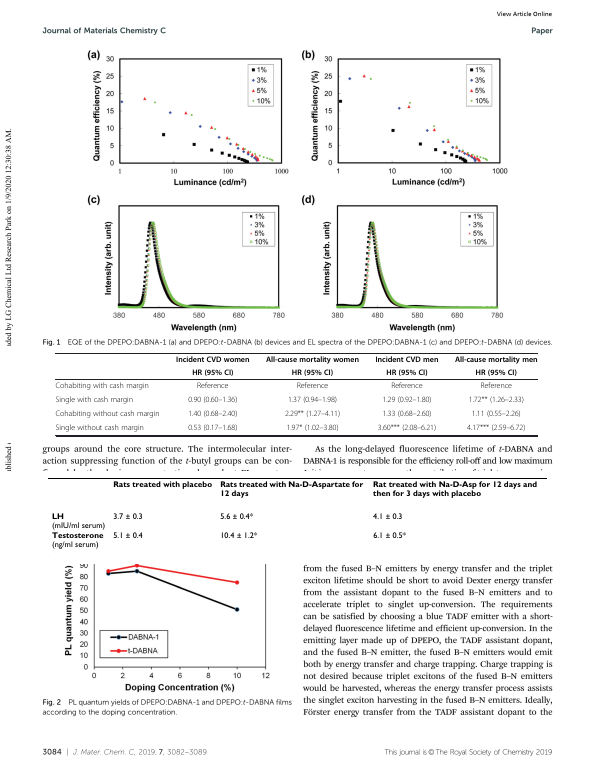borderless: (46, 476, 548, 558), (54, 351, 537, 435)
cell: (372, 481, 537, 499), (219, 481, 364, 499), (50, 512, 106, 531), (54, 409, 160, 419), (50, 532, 104, 550), (54, 381, 150, 391), (112, 481, 213, 490), (55, 423, 145, 433), (265, 355, 360, 364), (54, 395, 134, 405), (454, 355, 538, 364), (175, 355, 250, 364), (377, 423, 437, 433), (466, 423, 526, 433), (374, 355, 439, 364), (468, 395, 525, 405), (284, 409, 341, 419), (285, 423, 339, 433), (187, 395, 238, 405), (287, 395, 338, 405), (381, 395, 432, 405), (187, 409, 238, 419), (381, 409, 432, 419), (471, 409, 522, 419), (187, 423, 238, 433), (191, 368, 234, 378), (291, 368, 334, 378), (385, 368, 428, 378), (475, 368, 518, 378), (219, 531, 258, 541), (219, 512, 254, 522), (372, 531, 406, 541), (390, 381, 424, 391), (479, 381, 513, 391), (196, 381, 229, 391), (296, 381, 329, 391), (112, 512, 143, 522), (372, 512, 403, 522), (112, 531, 143, 541)
